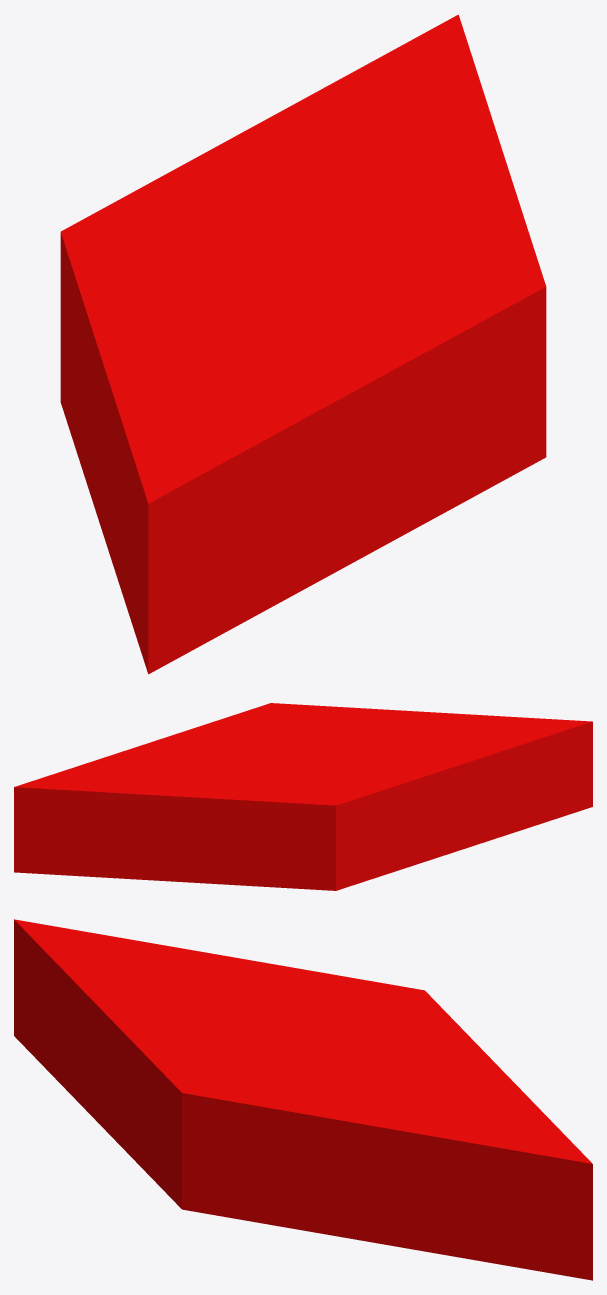
The model's file is parallelogram.dae.
The picture shows the model from 3 angles, top to bottom: view 1: azimuth 30°, elevation 25°; view 2: azimuth 150°, elevation 25°; view 3: azimuth 270°, elevation 25°; orthographic projection. The views are drawn at different scales.
Parts seen in each view (by area): view 1: Boxform3; view 2: Boxform3; view 3: Boxform3.
Part boxes in pixels (x1,y1,x2,y2): Boxform3: [60, 14, 546, 674]; Boxform3: [14, 703, 592, 890]; Boxform3: [14, 919, 592, 1280].
Size of the model in its own units: 0.09 by 0.09 by 0.02.
